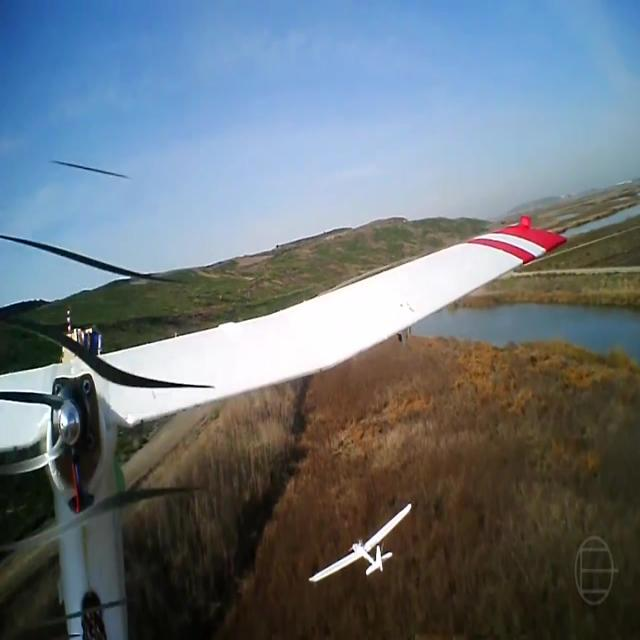iha: (340, 535, 380, 551)
